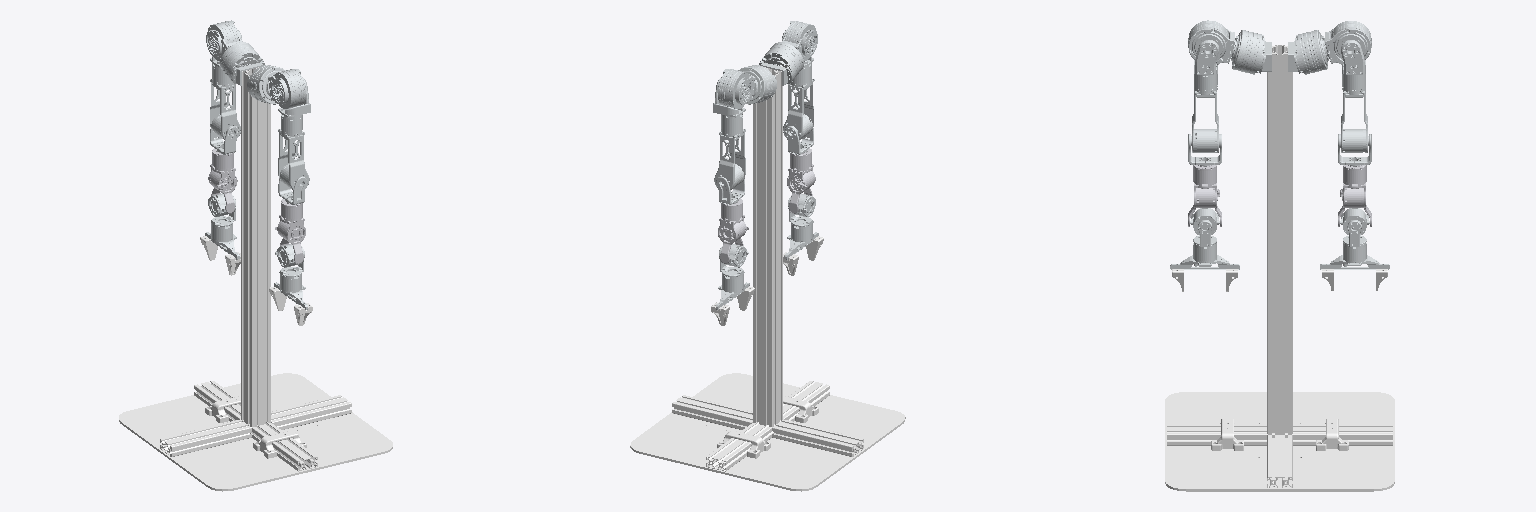
robot.urdf — yunyi_v1_0:
<?xml version="1.0" encoding="utf-8"?>
<!-- Generated from bessica_M1.3; product axes/limits/TCP are intentional overrides. -->
<robot name="yunyi_v1_0">
  <link name="base_link">
    <inertial>
      <origin xyz="0.000999999248702761 -1.83550424751351E-09 0.146364218756861" rpy="0 0 0" />
      <mass value="3.56107119617945" />
      <inertia ixx="0.133996712837783" ixy="-3.54155579992734E-11" ixz="-5.04451217368818E-11" iyy="0.127853391457561" iyz="-3.55598587025315E-11" izz="0.0999783047222016" />
    </inertial>
    <visual>
      <origin xyz="0 0 0" rpy="0 0 0" />
      <geometry>
        <mesh filename="../meshes/bessica_M1.3/base_link.STL" />
      </geometry>
      <material name="">
        <color rgba="1 1 1 1" />
      </material>
    </visual>
    <collision>
      <origin xyz="0 0 0" rpy="0 0 0" />
      <geometry>
        <mesh filename="../meshes/bessica_M1.3/base_link.STL" />
      </geometry>
    </collision>
  </link>
  <link name="l-base-link">
    <inertial>
      <origin xyz="-1.95621951724376E-05 0.0255462660312101 0.00616010005021406" rpy="0 0 0" />
      <mass value="0.64674628681846" />
      <inertia ixx="0.000402983320026701" ixy="-1.17187838288309E-08" ixz="-2.60905644555332E-09" iyy="0.000686134944853457" iyz="-6.68964980663153E-05" izz="0.00045407857663488" />
    </inertial>
    <visual>
      <origin xyz="0 0 0" rpy="0 0 0" />
      <geometry>
        <mesh filename="../meshes/bessica_M1.3/l_base_link.STL" />
      </geometry>
      <material name="">
        <color rgba="0.898039215686275 0.917647058823529 0.929411764705882 1" />
      </material>
    </visual>
    <collision>
      <origin xyz="0 0 0" rpy="0 0 0" />
      <geometry>
        <mesh filename="../meshes/bessica_M1.3/l_base_link.STL" />
      </geometry>
    </collision>
  </link>
  <joint name="l-base-joint" type="fixed">
    <origin xyz="0.00105000000000442 0.044673068989973 1.01542723086331" rpy="0 0 0" />
    <parent link="base_link" />
    <child link="l-base-link" />
    <axis xyz="0 0 0" />
  </joint>
  <link name="l-link1">
    <inertial>
      <origin xyz="0.00223360232084524 0.0543009835655963 0.0145262521170118" rpy="0 0 0" />
      <mass value="0.486097998317314" />
      <inertia ixx="0.000518891929852716" ixy="1.00974467851841E-07" ixz="1.7440457772901E-07" iyy="0.000343137947001226" iyz="-1.58637120786692E-06" izz="0.00031950041800837" />
    </inertial>
    <visual>
      <origin xyz="0 0 0" rpy="0 0 0" />
      <geometry>
        <mesh filename="../meshes/bessica_M1.3/l_link1.STL" />
      </geometry>
      <material name="">
        <color rgba="0.898039215686275 0.917647058823529 0.929411764705882 1" />
      </material>
    </visual>
    <collision>
      <origin xyz="0 0 0" rpy="0 0 0" />
      <geometry>
        <mesh filename="../meshes/bessica_M1.3/l_link1.STL" />
      </geometry>
    </collision>
  </link>
  <joint name="l-joint1" type="revolute">
    <origin xyz="0 0.059598 0.015969" rpy="0 0 0" />
    <parent link="l-base-link" />
    <child link="l-link1" />
    <axis xyz="0 0.96592586715013007 0.25881889260691426" />
    <limit lower="-2.745" upper="2.745" effort="40" velocity="16" />
  </joint>
  <link name="l-link2">
    <inertial>
      <origin xyz="0.011293019356886 0.00810561029271017 -0.075161248618428" rpy="0 0 0" />
      <mass value="0.607836497793568" />
      <inertia ixx="0.000263266475869967" ixy="9.97211743055112E-07" ixz="4.2889759478869E-07" iyy="0.000240279165373824" iyz="-3.32209911921571E-06" izz="0.000256131711552836" />
    </inertial>
    <visual>
      <origin xyz="0 0 0" rpy="0 0 0" />
      <geometry>
        <mesh filename="../meshes/bessica_M1.3/l_link2.STL" />
      </geometry>
      <material name="">
        <color rgba="0.898039215686275 0.917647058823529 0.929411764705882 1" />
      </material>
    </visual>
    <collision>
      <origin xyz="0 0 0" rpy="0 0 0" />
      <geometry>
        <mesh filename="../meshes/bessica_M1.3/l_link2.STL" />
      </geometry>
    </collision>
  </link>
  <joint name="l-joint2" type="revolute">
    <origin xyz="-5E-05 0.06549 0.017548" rpy="0 0 0" />
    <parent link="l-link1" />
    <child link="l-link2" />
    <axis xyz="1 0 0" />
    <limit lower="-0.3489" upper="2.2678" effort="40" velocity="16" />
  </joint>
  <link name="l-link3">
    <inertial>
      <origin xyz="0.00593848148318168 -0.00106126579574564 -0.109906905897678" rpy="0 0 0" />
      <mass value="0.57943677359336" />
      <inertia ixx="0.0004211530262009" ixy="3.35719992159405E-07" ixz="-1.32203834042801E-05" iyy="0.000466838000735787" iyz="-1.14901005593523E-06" izz="0.000197411121398285" />
    </inertial>
    <visual>
      <origin xyz="0 0 0" rpy="0 0 0" />
      <geometry>
        <mesh filename="../meshes/bessica_M1.3/l_link3.STL" />
      </geometry>
      <material name="">
        <color rgba="0.898039215686275 0.917647058823529 0.929411764705882 1" />
      </material>
    </visual>
    <collision>
      <origin xyz="0 0 0" rpy="0 0 0" />
      <geometry>
        <mesh filename="../meshes/bessica_M1.3/l_link3.STL" />
      </geometry>
    </collision>
  </link>
  <joint name="l-joint3" type="revolute">
    <origin xyz="0.0043414 0.008 -0.1195" rpy="0 0 0" />
    <parent link="l-link2" />
    <child link="l-link3" />
    <axis xyz="0 0 -1" />
    <limit lower="-2.5294" upper="2.5294" effort="27" velocity="5" />
  </joint>
  <link name="l-link4">
    <inertial>
      <origin xyz="-0.00610254551349306 -0.00201934108374865 -0.0331848660245111" rpy="0 0 0" />
      <mass value="0.112953002423593" />
      <inertia ixx="5.12937768366745E-05" ixy="1.4543459150224E-07" ixz="5.87799654862338E-06" iyy="5.76857797859487E-05" iyz="5.29071548824356E-07" izz="2.00455415433637E-05" />
    </inertial>
    <visual>
      <origin xyz="0 0 0" rpy="0 0 0" />
      <geometry>
        <mesh filename="../meshes/bessica_M1.3/l_link4.STL" />
      </geometry>
      <material name="">
        <color rgba="0.898039215686275 0.917647058823529 0.929411764705882 1" />
      </material>
    </visual>
    <collision>
      <origin xyz="0 0 0" rpy="0 0 0" />
      <geometry>
        <mesh filename="../meshes/bessica_M1.3/l_link4.STL" />
      </geometry>
    </collision>
  </link>
  <joint name="l-joint4" type="revolute">
    <origin xyz="0.0082 0 -0.13375" rpy="0 0 0" />
    <parent link="l-link3" />
    <child link="l-link4" />
    <axis xyz="0 -1 0" />
    <limit lower="-0.1744" upper="2.2678" effort="27" velocity="5" />
  </joint>
  <link name="l-link5">
    <inertial>
      <origin xyz="-4.08631178076555E-05 -0.00060815237865966 -0.059568427772497" rpy="0 0 0" />
      <mass value="0.707370386459651" />
      <inertia ixx="0.000281242373489498" ixy="3.66315278886839E-07" ixz="5.92663823078124E-07" iyy="0.000324023332220045" iyz="-2.46884026581289E-07" izz="0.000235342844083135" />
    </inertial>
    <visual>
      <origin xyz="0 0 0" rpy="0 0 0" />
      <geometry>
        <mesh filename="../meshes/bessica_M1.3/l_link5.STL" />
      </geometry>
      <material name="">
        <color rgba="0.890196078431372 0.890196078431372 0.913725490196078 1" />
      </material>
    </visual>
    <collision>
      <origin xyz="0 0 0" rpy="0 0 0" />
      <geometry>
        <mesh filename="../meshes/bessica_M1.3/l_link5.STL" />
      </geometry>
    </collision>
  </link>
  <joint name="l-joint5" type="revolute">
    <origin xyz="-0.0082 0.000875 -0.064" rpy="0 0 0" />
    <parent link="l-link4" />
    <child link="l-link5" />
    <axis xyz="0 0 1" />
    <limit lower="-2.0933" upper="2.0933" effort="7" velocity="20" />
  </joint>
  <link name="l-link6">
    <inertial>
      <origin xyz="-0.00124021121425022 0.000102030009410975 2.17965486548621E-07" rpy="0 0 0" />
      <mass value="0.320900903059042" />
      <inertia ixx="0.000138345011073375" ixy="-8.93982615915924E-09" ixz="-1.319557350212E-09" iyy="9.30209080328958E-05" iyz="-2.56239744998499E-08" izz="0.000106843444156536" />
    </inertial>
    <visual>
      <origin xyz="0 0 0" rpy="0 0 0" />
      <geometry>
        <mesh filename="../meshes/bessica_M1.3/l_link6.STL" />
      </geometry>
      <material name="">
        <color rgba="0.898039215686275 0.917647058823529 0.929411764705882 1" />
      </material>
    </visual>
    <collision>
      <origin xyz="0 0 0" rpy="0 0 0" />
      <geometry>
        <mesh filename="../meshes/bessica_M1.3/l_link6.STL" />
      </geometry>
    </collision>
  </link>
  <joint name="l-joint6" type="revolute">
    <origin xyz="0 0 -0.155" rpy="0 0 0" />
    <parent link="l-link5" />
    <child link="l-link6" />
    <axis xyz="0 -1 0" />
    <limit lower="-0.785" upper="0.785" effort="7" velocity="20" />
  </joint>
  <link name="l-link7">
    <inertial>
      <origin xyz="-0.000139431260921055 1.25864096367501E-07 -0.0729973583168591" rpy="0 0 0" />
      <mass value="0.393429024276562" />
      <inertia ixx="0.000183223913344015" ixy="-4.07535180276811E-07" ixz="-2.07496058880196E-07" iyy="0.000109889658700309" iyz="2.95287341286751E-09" izz="0.000215657907466964" />
    </inertial>
    <visual>
      <origin xyz="0 0 0" rpy="0 0 0" />
      <geometry>
        <mesh filename="../meshes/bessica_M1.3/l_link7.STL" />
      </geometry>
      <material name="">
        <color rgba="0.898039215686275 0.917647058823529 0.929411764705882 1" />
      </material>
    </visual>
    <collision>
      <origin xyz="0 0 0" rpy="0 0 0" />
      <geometry>
        <mesh filename="../meshes/bessica_M1.3/l_link7.STL" />
      </geometry>
    </collision>
  </link>
  <joint name="l-joint7" type="revolute">
    <origin xyz="0 0 0" rpy="0 0 0" />
    <parent link="l-link6" />
    <child link="l-link7" />
    <axis xyz="1 0 0" />
    <limit lower="-1.3956" upper="1.3956" effort="7" velocity="20" />
  </joint>
  <link name="l-link8">
    <inertial>
      <origin xyz="0.000382813619687423 0.346002812636801 0.0449197877637941" rpy="0 0 0" />
      <mass value="0.0290810459451504" />
      <inertia ixx="6.73188537163971E-06" ixy="-4.24550686568903E-13" ixz="-2.49929021940714E-11" iyy="8.29422781792005E-06" iyz="-1.28958757476799E-06" izz="5.44783810286411E-06" />
    </inertial>
    <visual>
      <origin xyz="0 0 0" rpy="0 0 0" />
      <geometry>
        <mesh filename="../meshes/bessica_M1.3/l_tool_link1.STL" />
      </geometry>
      <material name="">
        <color rgba="1 1 1 1" />
      </material>
    </visual>
    <collision>
      <origin xyz="0 0 0" rpy="0 0 0" />
      <geometry>
        <mesh filename="../meshes/bessica_M1.3/l_tool_link1.STL" />
      </geometry>
    </collision>
  </link>
  <joint name="l-joint8" type="prismatic">
    <origin xyz="-0.0023828 -0.40777 -0.18025" rpy="0 0 0" />
    <parent link="l-link7" />
    <child link="l-link8" />
    <axis xyz="0 -1 0" />
    <limit lower="-0.05" upper="0" effort="5" velocity="10" />
  </joint>
  <link name="l-link9">
    <inertial>
      <origin xyz="0.000382785726591912 0.368539041340821 0.0449197877637945" rpy="0 0 0" />
      <mass value="0.0290810459451503" />
      <inertia ixx="6.73188537163968E-06" ixy="-4.2455068685141E-13" ixz="2.49929022051278E-11" iyy="8.29422781792E-06" iyz="1.289587574768E-06" izz="5.44783810286409E-06" />
    </inertial>
    <visual>
      <origin xyz="0 0 0" rpy="0 0 0" />
      <geometry>
        <mesh filename="../meshes/bessica_M1.3/l_tool_link2.STL" />
      </geometry>
      <material name="">
        <color rgba="1 1 1 1" />
      </material>
    </visual>
    <collision>
      <origin xyz="0 0 0" rpy="0 0 0" />
      <geometry>
        <mesh filename="../meshes/bessica_M1.3/l_tool_link2.STL" />
      </geometry>
    </collision>
  </link>
  <joint name="l-joint9" type="prismatic">
    <origin xyz="-0.0023828 -0.30677 -0.18025" rpy="0 0 0" />
    <parent link="l-link7" />
    <child link="l-link9" />
    <axis xyz="0 -1 0" />
    <limit lower="0" upper="0.05" effort="5" velocity="10" />
  </joint>
  <link name="r-base-link">
    <inertial>
      <origin xyz="1.95621951713056E-05 -0.0255462660312129 0.00616010005021361" rpy="0 0 0" />
      <mass value="0.64674628681846" />
      <inertia ixx="0.0004029833200267" ixy="-1.17187838291378E-08" ixz="2.60905644546654E-09" iyy="0.000686134944853456" iyz="6.6896498066315E-05" izz="0.000454078576634879" />
    </inertial>
    <visual>
      <origin xyz="0 0 0" rpy="0 0 0" />
      <geometry>
        <mesh filename="../meshes/bessica_M1.3/r_base_link.STL" />
      </geometry>
      <material name="">
        <color rgba="0.898039215686275 0.917647058823529 0.929411764705882 1" />
      </material>
    </visual>
    <collision>
      <origin xyz="0 0 0" rpy="0 0 0" />
      <geometry>
        <mesh filename="../meshes/bessica_M1.3/r_base_link.STL" />
      </geometry>
    </collision>
  </link>
  <joint name="r-base-joint" type="fixed">
    <origin xyz="0.00104999999999497 -0.0446730689899729 1.01542723086331" rpy="0 0 0" />
    <parent link="base_link" />
    <child link="r-base-link" />
    <axis xyz="0 0 0" />
  </joint>
  <link name="r-link1">
    <inertial>
      <origin xyz="0.000680312668551351 -0.0534824777093734 0.014244502731414" rpy="0 0 0" />
      <mass value="0.548482032822219" />
      <inertia ixx="0.000620360523184661" ixy="1.27320477888725E-06" ixz="5.54029487972633E-08" iyy="0.000389148789820143" iyz="-1.40748349431719E-06" izz="0.000375553884658732" />
    </inertial>
    <visual>
      <origin xyz="0 0 0" rpy="0 0 0" />
      <geometry>
        <mesh filename="../meshes/bessica_M1.3/r_link1.STL" />
      </geometry>
      <material name="">
        <color rgba="0.898039215686275 0.917647058823529 0.929411764705882 1" />
      </material>
    </visual>
    <collision>
      <origin xyz="0 0 0" rpy="0 0 0" />
      <geometry>
        <mesh filename="../meshes/bessica_M1.3/r_link1.STL" />
      </geometry>
    </collision>
  </link>
  <joint name="r-joint1" type="revolute">
    <origin xyz="0 -0.0595976234820355 0.0159691350828256" rpy="0 0 0" />
    <parent link="r-base-link" />
    <child link="r-link1" />
    <axis xyz="0 0.96592582628906676 -0.25881904510252696" />
    <limit lower="-2.745" upper="2.745" effort="40" velocity="16" />
  </joint>
  <link name="r-link2">
    <inertial>
      <origin xyz="0.0109102194567129 -0.0082394523019873 -0.0751612620480779" rpy="0 0 0" />
      <mass value="0.607836262110497" />
      <inertia ixx="0.000263266317943445" ixy="-1.06750357538932E-06" ixz="4.2888960380992E-07" iyy="0.000240279114798061" iyz="2.96492061867639E-06" izz="0.000256131631663003" />
    </inertial>
    <visual>
      <origin xyz="0 0 0" rpy="0 0 0" />
      <geometry>
        <mesh filename="../meshes/bessica_M1.3/r_link2.STL" />
      </geometry>
      <material name="">
        <color rgba="0.898039215686275 0.917647058823529 0.929411764705882 1" />
      </material>
    </visual>
    <collision>
      <origin xyz="0 0 0" rpy="0 0 0" />
      <geometry>
        <mesh filename="../meshes/bessica_M1.3/r_link2.STL" />
      </geometry>
    </collision>
  </link>
  <joint name="r-joint2" type="revolute">
    <origin xyz="-4.99999999949084E-05 -0.0654897710223989 0.0175479312579507" rpy="0 0 0" />
    <parent link="r-link1" />
    <child link="r-link2" />
    <axis xyz="1 0 0" />
    <limit lower="-2.2678" upper="0.3489" effort="40" velocity="16" />
  </joint>
  <link name="r-link3">
    <inertial>
      <origin xyz="0.00593605975424075 0.00110447075255668 -0.110341344610117" rpy="0 0 0" />
      <mass value="0.57856222431834" />
      <inertia ixx="0.000416786424394157" ixy="-3.07874106610115E-07" ixz="-1.36458123967443E-05" iyy="0.000462235400847049" iyz="1.19765079310785E-06" izz="0.000197162801678215" />
    </inertial>
    <visual>
      <origin xyz="0 0 0" rpy="0 0 0" />
      <geometry>
        <mesh filename="../meshes/bessica_M1.3/r_link3.STL" />
      </geometry>
      <material name="">
        <color rgba="0.898039215686275 0.917647058823529 0.929411764705882 1" />
      </material>
    </visual>
    <collision>
      <origin xyz="0 0 0" rpy="0 0 0" />
      <geometry>
        <mesh filename="../meshes/bessica_M1.3/r_link3.STL" />
      </geometry>
    </collision>
  </link>
  <joint name="r-joint3" type="revolute">
    <origin xyz="0.00395860016342071 -0.00799999999999931 -0.1195" rpy="0 0 0" />
    <parent link="r-link2" />
    <child link="r-link3" />
    <axis xyz="0 0 -1" />
    <limit lower="-2.5294" upper="2.5294" effort="27" velocity="5" />
  </joint>
  <link name="r-link4">
    <inertial>
      <origin xyz="-0.00610255228430757 0.00202089081431475 -0.0331848736918078" rpy="0 0 0" />
      <mass value="0.112952951283679" />
      <inertia ixx="5.12940158472547E-05" ixy="-1.45432498118358E-07" ixz="5.8780227367345E-06" iyy="5.76860180894472E-05" iyz="-5.29127201948879E-07" izz="2.00455304108755E-05" />
    </inertial>
    <visual>
      <origin xyz="0 0 0" rpy="0 0 0" />
      <geometry>
        <mesh filename="../meshes/bessica_M1.3/r_link4.STL" />
      </geometry>
      <material name="">
        <color rgba="0.898039215686275 0.917647058823529 0.929411764705882 1" />
      </material>
    </visual>
    <collision>
      <origin xyz="0 0 0" rpy="0 0 0" />
      <geometry>
        <mesh filename="../meshes/bessica_M1.3/r_link4.STL" />
      </geometry>
    </collision>
  </link>
  <joint name="r-joint4" type="revolute">
    <origin xyz="0.0082 0 -0.134" rpy="0 0 0" />
    <parent link="r-link3" />
    <child link="r-link4" />
    <axis xyz="0 -1 0" />
    <limit lower="-0.1744" upper="2.2678" effort="27" velocity="5" />
  </joint>
  <link name="r-link5">
    <inertial>
      <origin xyz="-0.000158843368204124 0.000493615134763731 -0.0595601888985068" rpy="0 0 0" />
      <mass value="0.707309229997964" />
      <inertia ixx="0.00028104980885741" ixy="-4.22473207945767E-08" ixz="6.43905065571042E-07" iyy="0.000323837064816987" iyz="4.84062420051079E-07" izz="0.00023533538318042" />
    </inertial>
    <visual>
      <origin xyz="0 0 0" rpy="0 0 0" />
      <geometry>
        <mesh filename="../meshes/bessica_M1.3/r_link5.STL" />
      </geometry>
      <material name="">
        <color rgba="0.890196078431372 0.890196078431372 0.913725490196078 1" />
      </material>
    </visual>
    <collision>
      <origin xyz="0 0 0" rpy="0 0 0" />
      <geometry>
        <mesh filename="../meshes/bessica_M1.3/r_link5.STL" />
      </geometry>
    </collision>
  </link>
  <joint name="r-joint5" type="revolute">
    <origin xyz="-0.00820000000001359 -0.000874999999993659 -0.0639999999999995" rpy="0 0 0" />
    <parent link="r-link4" />
    <child link="r-link5" />
    <axis xyz="0 0 1" />
    <limit lower="-2.0933" upper="2.0933" effort="7" velocity="20" />
  </joint>
  <link name="r-link6">
    <inertial>
      <origin xyz="-0.00124383756768642 0.000161938998952671 1.39824288758472E-06" rpy="0 0 0" />
      <mass value="0.320941370383601" />
      <inertia ixx="0.000138384238824509" ixy="-2.7748213654657E-07" ixz="-2.55796079793345E-09" iyy="9.30253885407872E-05" iyz="-1.92961735640939E-08" izz="0.000106887799481957" />
    </inertial>
    <visual>
      <origin xyz="0 0 0" rpy="0 0 0" />
      <geometry>
        <mesh filename="../meshes/bessica_M1.3/r_link6.STL" />
      </geometry>
      <material name="">
        <color rgba="0.898039215686275 0.917647058823529 0.929411764705882 1" />
      </material>
    </visual>
    <collision>
      <origin xyz="0 0 0" rpy="0 0 0" />
      <geometry>
        <mesh filename="../meshes/bessica_M1.3/r_link6.STL" />
      </geometry>
    </collision>
  </link>
  <joint name="r-joint6" type="revolute">
    <origin xyz="0 0 -0.155000000000001" rpy="0 0 0" />
    <parent link="r-link5" />
    <child link="r-link6" />
    <axis xyz="0 -1 0" />
    <limit lower="-0.785" upper="0.785" effort="7" velocity="20" />
  </joint>
  <link name="r-link7">
    <inertial>
      <origin xyz="-0.000139431260932315 1.25864120625874E-07 -0.0729973583168942" rpy="0 0 0" />
      <mass value="0.393429024277489" />
      <inertia ixx="0.000183223913344295" ixy="-4.07535180367638E-07" ixz="-2.07496058772897E-07" iyy="0.000109889658700514" iyz="2.95287327444052E-09" izz="0.000215657907467143" />
    </inertial>
    <visual>
      <origin xyz="0 0 0" rpy="0 0 0" />
      <geometry>
        <mesh filename="../meshes/bessica_M1.3/r_link7.STL" />
      </geometry>
      <material name="">
        <color rgba="0.898039215686275 0.917647058823529 0.929411764705882 1" />
      </material>
    </visual>
    <collision>
      <origin xyz="0 0 0" rpy="0 0 0" />
      <geometry>
        <mesh filename="../meshes/bessica_M1.3/r_link7.STL" />
      </geometry>
    </collision>
  </link>
  <joint name="r-joint7" type="revolute">
    <origin xyz="0 0 0" rpy="0 0 0" />
    <parent link="r-link6" />
    <child link="r-link7" />
    <axis xyz="1 0 0" />
    <limit lower="-1.3956" upper="1.3956" effort="7" velocity="20" />
  </joint>
  <link name="r-link8">
    <inertial>
      <origin xyz="-0.000382785726589782 -0.36853904134082 0.0444197877638011" rpy="0 0 0" />
      <mass value="0.0290810459451501" />
      <inertia ixx="6.73188537163965E-06" ixy="-4.2455068251996E-13" ixz="-2.4992902204894E-11" iyy="8.29422781791998E-06" iyz="-1.28958757476799E-06" izz="5.44783810286406E-06" />
    </inertial>
    <visual>
      <origin xyz="0 0 0" rpy="0 0 0" />
      <geometry>
        <mesh filename="../meshes/bessica_M1.3/r_tool_link1.STL" />
      </geometry>
      <material name="">
        <color rgba="1 1 1 1" />
      </material>
    </visual>
    <collision>
      <origin xyz="0 0 0" rpy="0 0 0" />
      <geometry>
        <mesh filename="../meshes/bessica_M1.3/r_tool_link1.STL" />
      </geometry>
    </collision>
  </link>
  <joint name="r-joint8" type="prismatic">
    <origin xyz="-0.0016172 0.30677 -0.17975" rpy="0 0 0" />
    <parent link="r-link7" />
    <child link="r-link8" />
    <axis xyz="0 -1 0" />
    <limit lower="-0.05" upper="0" effort="5" velocity="10" />
  </joint>
  <link name="r-link9">
    <inertial>
      <origin xyz="-0.000382813619688352 -0.3460028126368 0.0444197877638013" rpy="0 0 0" />
      <mass value="0.0290810459451503" />
      <inertia ixx="6.73188537163964E-06" ixy="-4.24550687722559E-13" ixz="2.49929021818547E-11" iyy="8.29422781791998E-06" iyz="1.289587574768E-06" izz="5.44783810286411E-06" />
    </inertial>
    <visual>
      <origin xyz="0 0 0" rpy="0 0 0" />
      <geometry>
        <mesh filename="../meshes/bessica_M1.3/r_tool_link2.STL" />
      </geometry>
      <material name="">
        <color rgba="1 1 1 1" />
      </material>
    </visual>
    <collision>
      <origin xyz="0 0 0" rpy="0 0 0" />
      <geometry>
        <mesh filename="../meshes/bessica_M1.3/r_tool_link2.STL" />
      </geometry>
    </collision>
  </link>
  <joint name="r-joint9" type="prismatic">
    <origin xyz="-0.0016172 0.40777 -0.17975" rpy="0 0 0" />
    <parent link="r-link7" />
    <child link="r-link9" />
    <axis xyz="0 -1 0" />
    <limit lower="0" upper="0.05" effort="5" velocity="10" />
  </joint>
  <link name="l-tool0" />
  <joint name="l-tool0-fixed-joint" type="fixed">
    <origin xyz="-0.0023828 -0.35726999999999998 -0.18024999999999999" rpy="0 0 0" />
    <parent link="l-link7" />
    <child link="l-tool0" />
  </joint>
  <link name="r-tool0" />
  <joint name="r-tool0-fixed-joint" type="fixed">
    <origin xyz="-0.0016172000000000001 0.35726999999999998 -0.17974999999999999" rpy="0 0 0" />
    <parent link="r-link7" />
    <child link="r-tool0" />
  </joint>
</robot>

--- Facts derived from the render (not from the file) ---
Views: 3 orthographic renders of the robot side by side, from view 1: azimuth 30°, elevation 25°; view 2: azimuth 150°, elevation 25°; view 3: azimuth 270°, elevation 25°.
Robot: yunyi_v1_0 — 23 links, 22 joints (14 revolute, 4 prismatic, 4 fixed); root link base_link; default pose: every joint at zero.
Links seen in each view (by area): view 1: base_link, r-link3, r-link1, r-link5, l-link5, l-link3, l-base-link, l-link1, l-link7, r-link7, r-link2, r-base-link (+2 smaller); view 2: base_link, l-link1, l-link3, l-link5, r-link5, r-link3, r-base-link, r-link1, l-link7, r-link7, l-link2, l-base-link (+1 smaller); view 3: base_link, l-base-link, r-base-link, r-link7, l-link7, l-link1, r-link1, r-link2, l-link2, r-link5, l-link5, r-link3 (+1 smaller).
Boxes of the visible links, left/top/right/bottom form: base_link: left=119, top=67, right=392, bottom=491; r-link3: left=278, top=132, right=309, bottom=189; r-link1: left=268, top=69, right=305, bottom=108; r-link5: left=275, top=199, right=305, bottom=263; l-link5: left=208, top=148, right=237, bottom=213; l-link3: left=210, top=82, right=240, bottom=139; l-base-link: left=220, top=42, right=264, bottom=85; l-link1: left=206, top=20, right=242, bottom=61; l-link7: left=205, top=196, right=239, bottom=259; r-link7: left=274, top=246, right=307, bottom=309; r-link2: left=278, top=77, right=310, bottom=138; r-base-link: left=247, top=65, right=285, bottom=104; base_link: left=630, top=67, right=905, bottom=491; l-link1: left=718, top=69, right=755, bottom=108; l-link3: left=714, top=132, right=745, bottom=189; l-link5: left=718, top=198, right=748, bottom=263; r-link5: left=787, top=148, right=815, bottom=213; r-link3: left=783, top=82, right=813, bottom=139; r-base-link: left=759, top=42, right=803, bottom=85; r-link1: left=782, top=21, right=817, bottom=61; l-link7: left=716, top=246, right=749, bottom=309; r-link7: left=784, top=198, right=818, bottom=259; l-link2: left=713, top=78, right=745, bottom=137; l-base-link: left=738, top=65, right=776, bottom=104; base_link: left=1165, top=45, right=1394, bottom=491; l-base-link: left=1288, top=30, right=1328, bottom=74; r-base-link: left=1231, top=30, right=1271, bottom=74; r-link7: left=1170, top=220, right=1239, bottom=269; l-link7: left=1320, top=220, right=1389, bottom=269; l-link1: left=1324, top=21, right=1371, bottom=64; r-link1: left=1188, top=20, right=1235, bottom=64; r-link2: left=1194, top=40, right=1218, bottom=94; l-link2: left=1341, top=40, right=1365, bottom=94; r-link5: left=1188, top=165, right=1221, bottom=226; l-link5: left=1338, top=165, right=1371, bottom=226; r-link3: left=1192, top=94, right=1218, bottom=152.
Bounding box of the posed robot: 0.55 × 0.55 × 1.1 m (x, y, z).
21 mesh visuals loaded from 21 distinct referenced files (21 binary STL).
